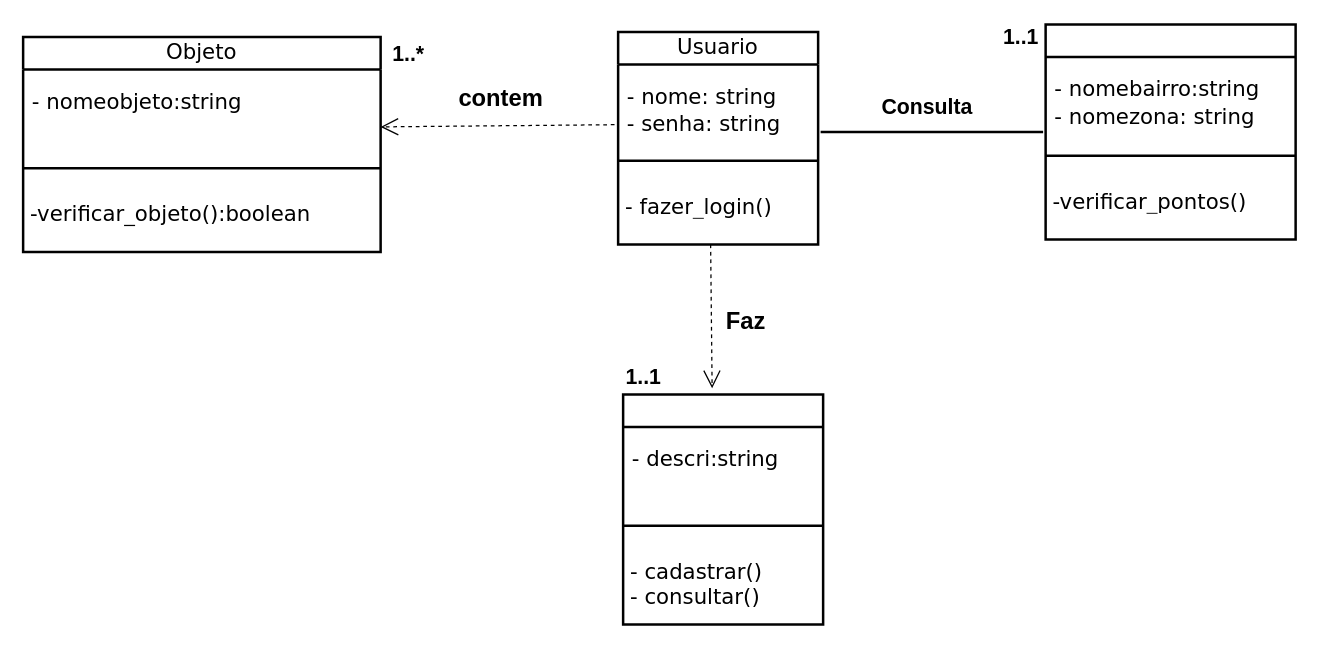
Image size: 1318x649. Some labels were removed from this diagram. Here are the shapes that lost their labels. From the top down, the box of each, then its label:
(1044, 22, 1296, 240): PontosdeColeta
(621, 392, 824, 625): Avaliacao
